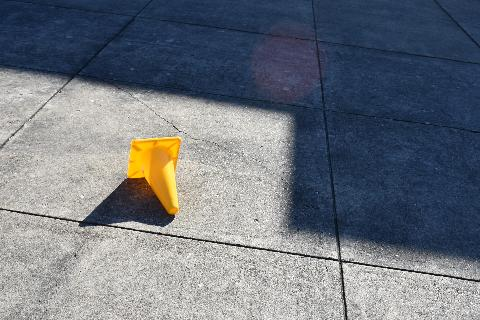cone: (127, 136, 181, 214)
